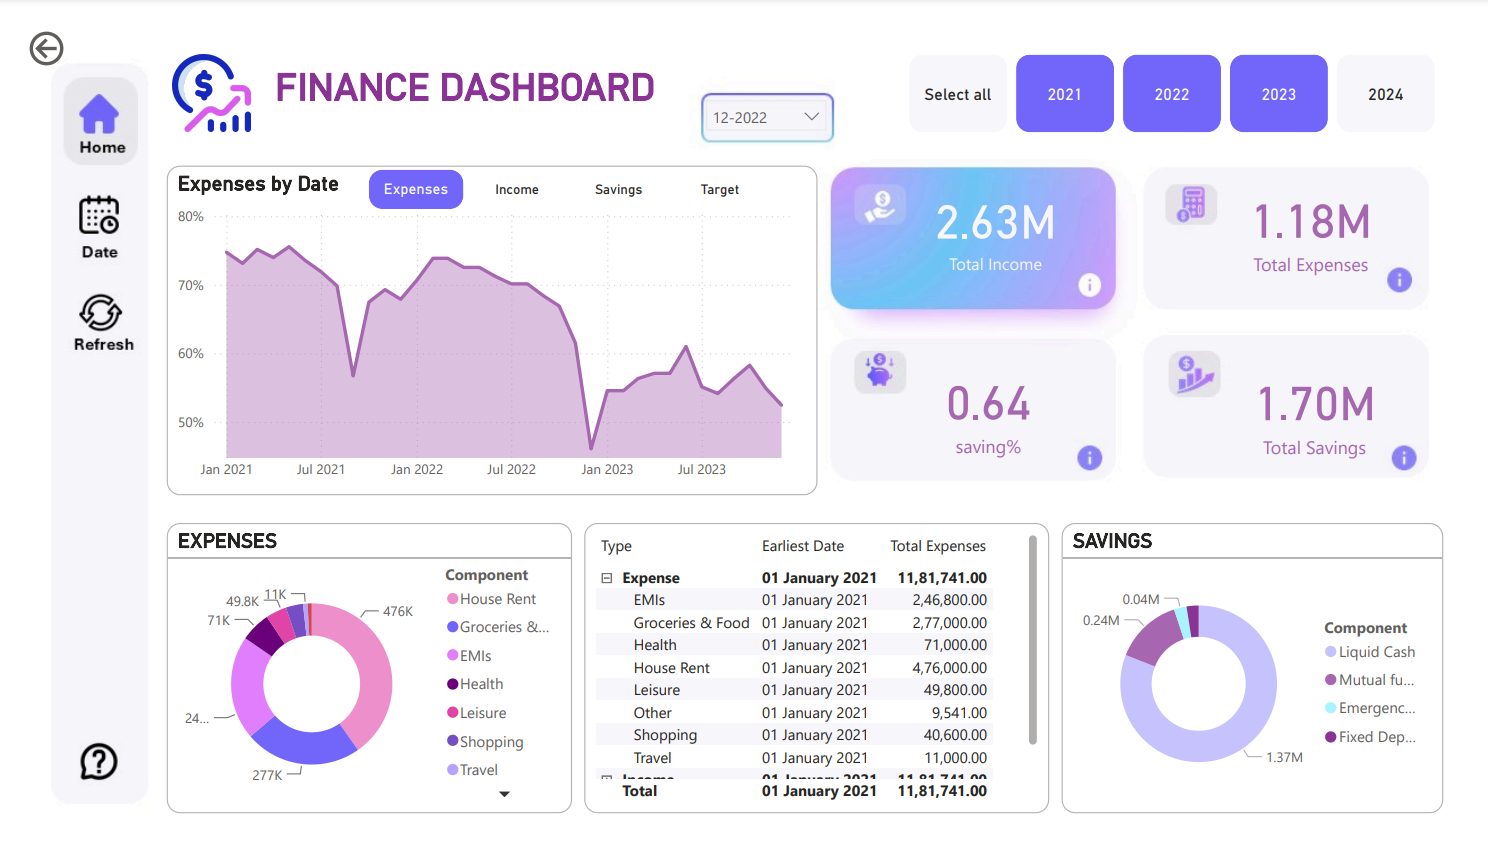

Layout of this report page (visuals, bound fields, positions):
{"tool":"powerbi","page":{"name":"Page 1","canvas":[1280,720],"ordinal":0},"visuals":[{"type":"card","fields":{"Values":["FinData.Total Income"]},"box":[764.3,124.9,196.2,108.4],"z":0},{"type":"card","fields":{"Values":["FinData.expenses"]},"box":[1056.6,111.1,172.9,135.8],"z":1000},{"type":"card","fields":{"Values":["FinData.savings"]},"box":[1059.4,292.3,174.3,100.2],"z":2000},{"type":"card","fields":{"Values":["FinData.saving%"]},"box":[775.3,279.9,161.9,123.5],"z":3000},{"type":"advancedSlicerVisual","fields":{"Values":["FinData.Y"]},"box":[780.8,20.6,480.3,79.6],"z":4000},{"type":"donutChart","title":"EXPENSES","fields":{"Category":["FinData.Component"],"Y":["FinData.Total Expenses"]},"box":[126.2,441.9,359.5,258],"z":5000},{"type":"donutChart","title":"SAVINGS","fields":{"Category":["FinData.Component"],"Y":["FinData.Total Savings"]},"box":[921.7,441.8,339.5,257.7],"z":6000},{"type":"pivotTable","fields":{"Rows":["FinData.Type","FinData.Component"],"Values":["Min(FinData.Date)","FinData.Total Expenses"]},"box":[498.1,441.9,413,258],"z":7000},{"type":"areaChart","fields":{"Category":["FinData.Date.Variation.Date Hierarchy.Year"],"Y":["FinData.line chart measures"]},"box":[126.8,124.1,578.1,293.1],"z":9000},{"type":"advancedSlicerVisual","fields":{"Values":["line selection table.Type"]},"box":[301.6,123.1,368,45.8],"z":10000},{"type":"textbox","box":[218.2,30,377.7,70.9],"z":11000},{"type":"slicer","fields":{"Values":["selected date.y-m"]},"box":[596,55.5,126.7,67.6],"z":12000},{"type":"image","box":[126.8,19.1,79.1,81.8],"z":12001}]}

Visuals, with their boxes in screenshot pixels (x1, y1, x2, y2), scaled from the page's 1280x720 canvas onto the 1488x841 screenshot:
card - FinData.Total Income: 888/146/1117/273
card - FinData.expenses: 1228/130/1429/288
card - FinData.savings: 1232/341/1434/458
card - FinData.saving%: 901/327/1089/471
advancedSlicerVisual - FinData.Y: 908/24/1466/117
"EXPENSES" donutChart: 147/516/565/818
"SAVINGS" donutChart: 1071/516/1466/817
pivotTable - FinData.Type x FinData.Component: 579/516/1059/818
areaChart - FinData.Date.Variation.Date Hierarchy.Year x FinData.line chart measures: 147/145/819/487
advancedSlicerVisual - line selection table.Type: 351/144/778/197
textbox: 254/35/693/118
slicer - selected date.y-m: 693/65/840/144
image: 147/22/239/118
